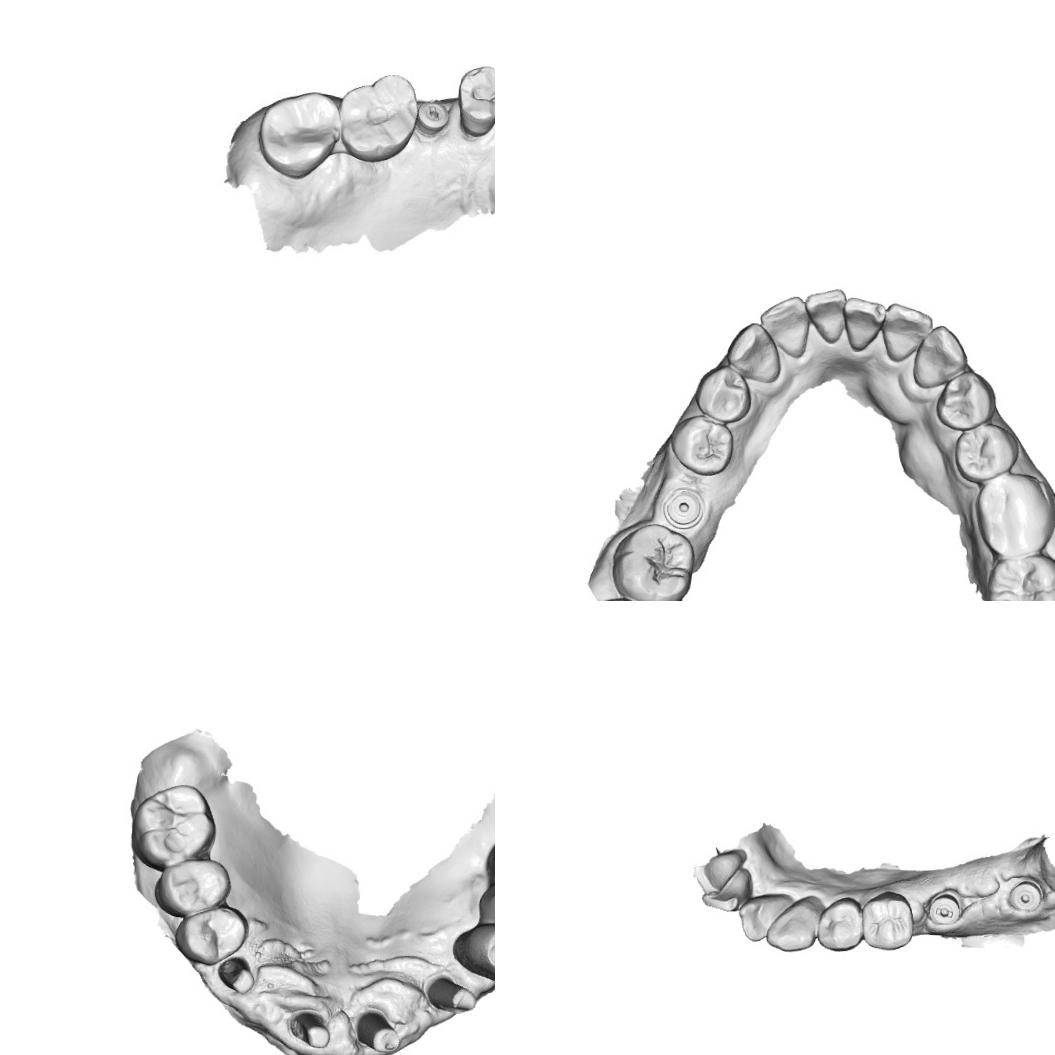abutment: (425, 972, 480, 1018), (353, 1005, 403, 1055), (286, 1006, 332, 1052), (214, 956, 255, 997)
canine: (910, 324, 969, 392), (726, 320, 784, 385), (764, 894, 820, 954)
implant: (664, 490, 706, 529), (1006, 876, 1044, 916)
implant_minus: (415, 100, 456, 140), (926, 892, 962, 927)
incisor: (757, 292, 810, 360), (881, 300, 933, 364), (802, 285, 850, 348), (736, 892, 794, 944), (842, 294, 888, 354), (692, 854, 729, 895), (700, 884, 752, 912)
molar: (130, 779, 218, 872), (257, 90, 342, 183), (972, 470, 1055, 561), (610, 521, 696, 601), (340, 76, 418, 164), (985, 554, 1055, 601)
premolar: (174, 902, 252, 968), (153, 856, 234, 918), (951, 421, 1019, 483), (669, 414, 734, 478), (934, 371, 994, 434), (694, 364, 754, 424), (860, 888, 916, 952), (452, 60, 495, 141), (815, 894, 864, 954), (471, 922, 495, 986)
